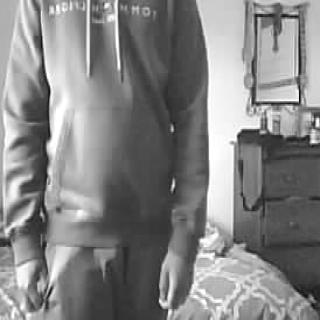Blue Hoodie: (3, 0, 211, 242)
Blue Sweatpants: (40, 231, 175, 320)
